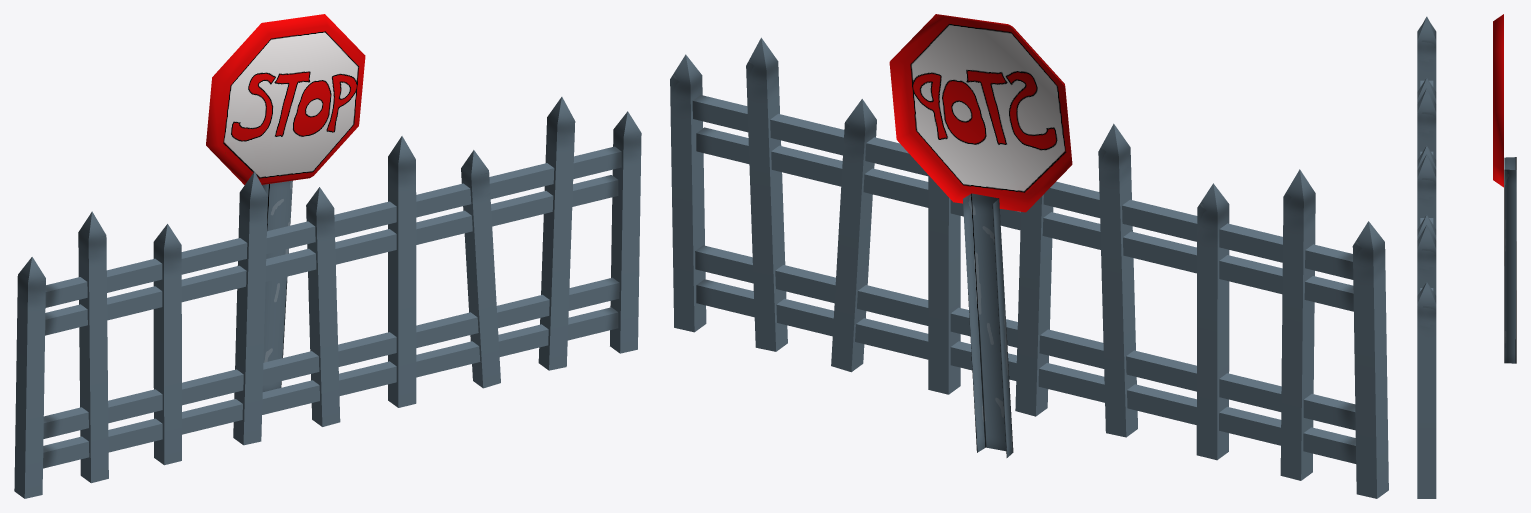
The model's file is Props.fbx.
The picture shows the model from 3 angles, left to right: view 1: azimuth 30°, elevation 25°; view 2: azimuth 150°, elevation 25°; view 3: azimuth 270°, elevation 25°; orthographic projection. The views are drawn at different scales.
Visible parts, largest first — view 1: Mesh_fences, Mesh_SingStop; view 2: Mesh_fences, Mesh_SingStop; view 3: Mesh_fences, Mesh_SingStop.
Boxes of the visible parts, bbox=[...] form: Mesh_fences: bbox=[14, 97, 641, 498]; Mesh_SingStop: bbox=[206, 14, 365, 391]; Mesh_fences: bbox=[670, 37, 1388, 498]; Mesh_SingStop: bbox=[889, 14, 1072, 457]; Mesh_fences: bbox=[1417, 16, 1436, 498]; Mesh_SingStop: bbox=[1493, 14, 1516, 363].
Size of the model in its own units: 2.07 by 1.2 by 0.3166.
